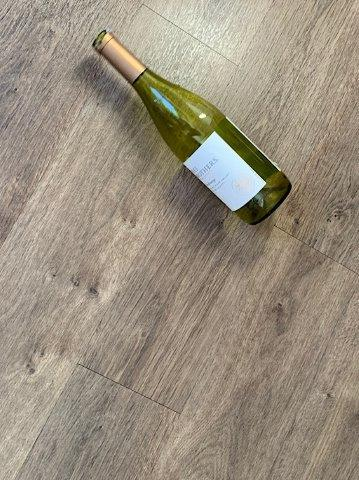botolkaca: (94, 29, 294, 226)
